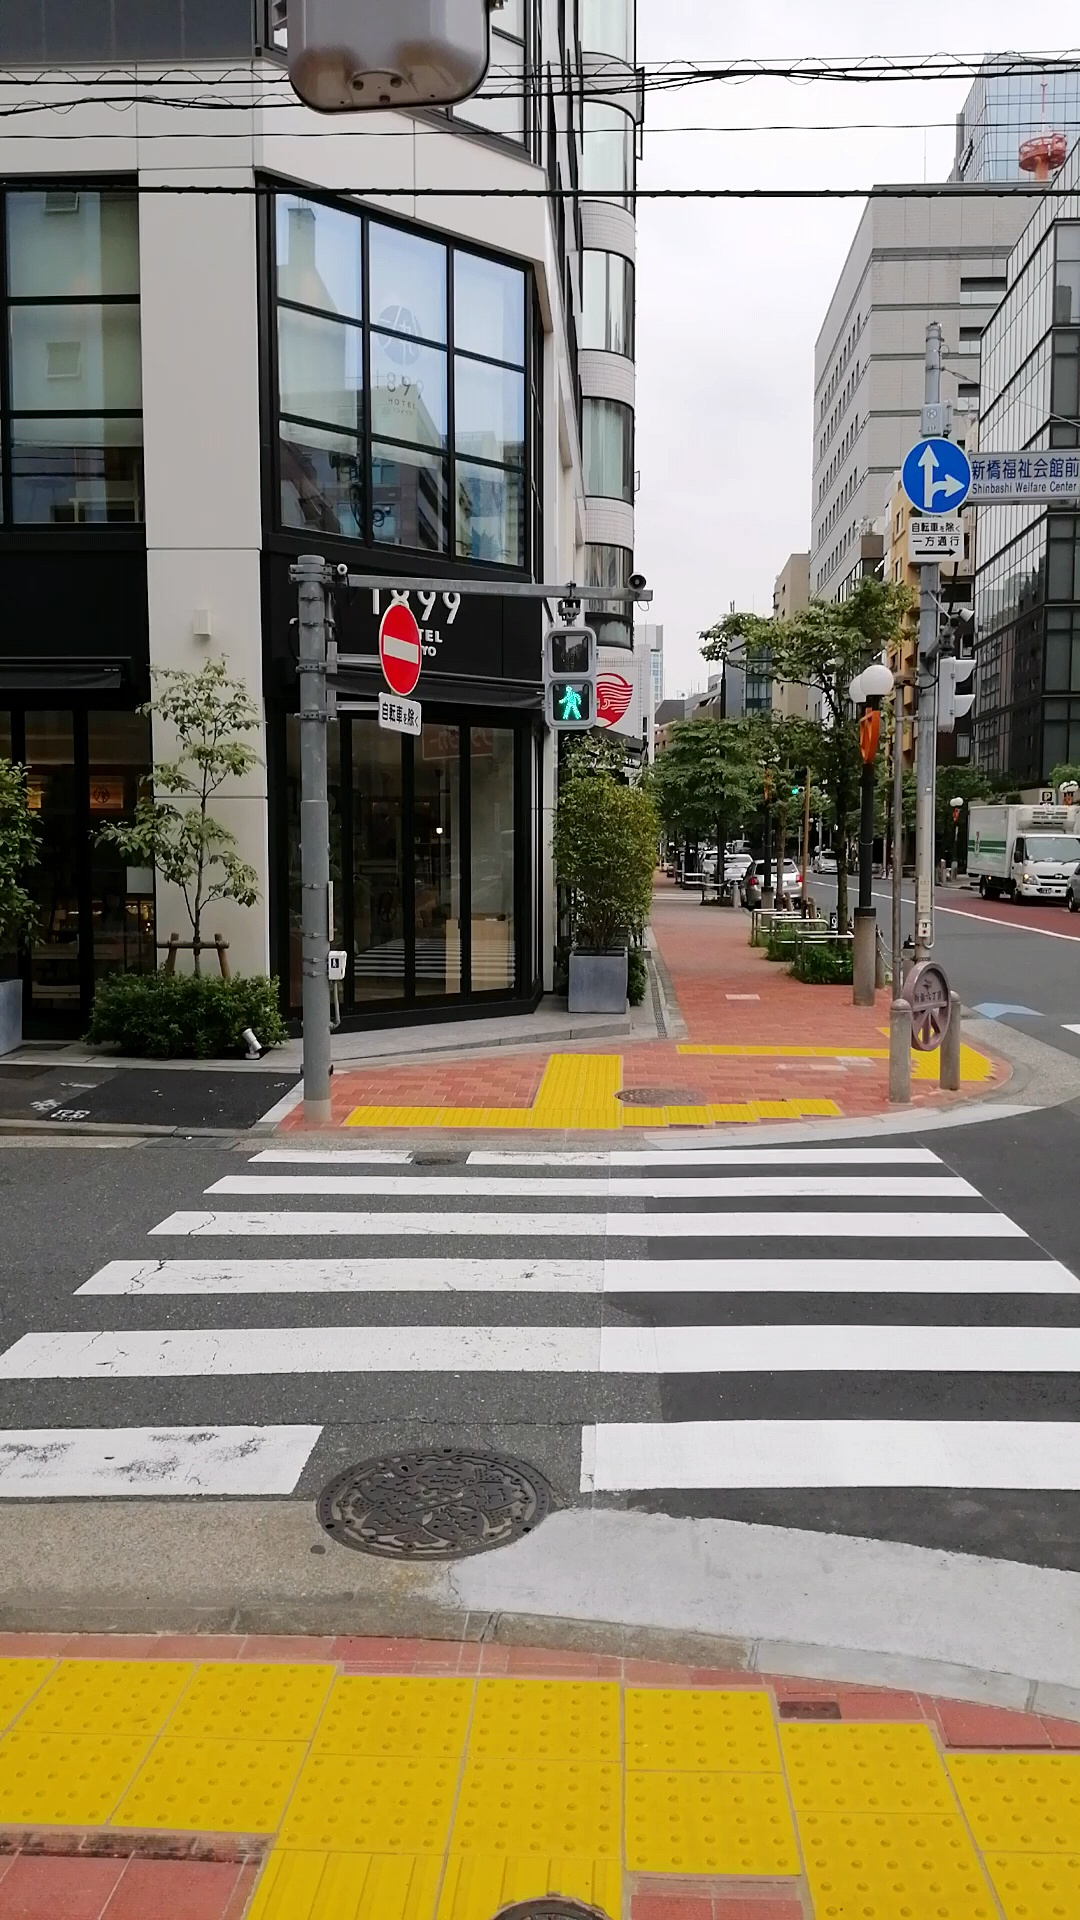green: (545, 625, 597, 731)
